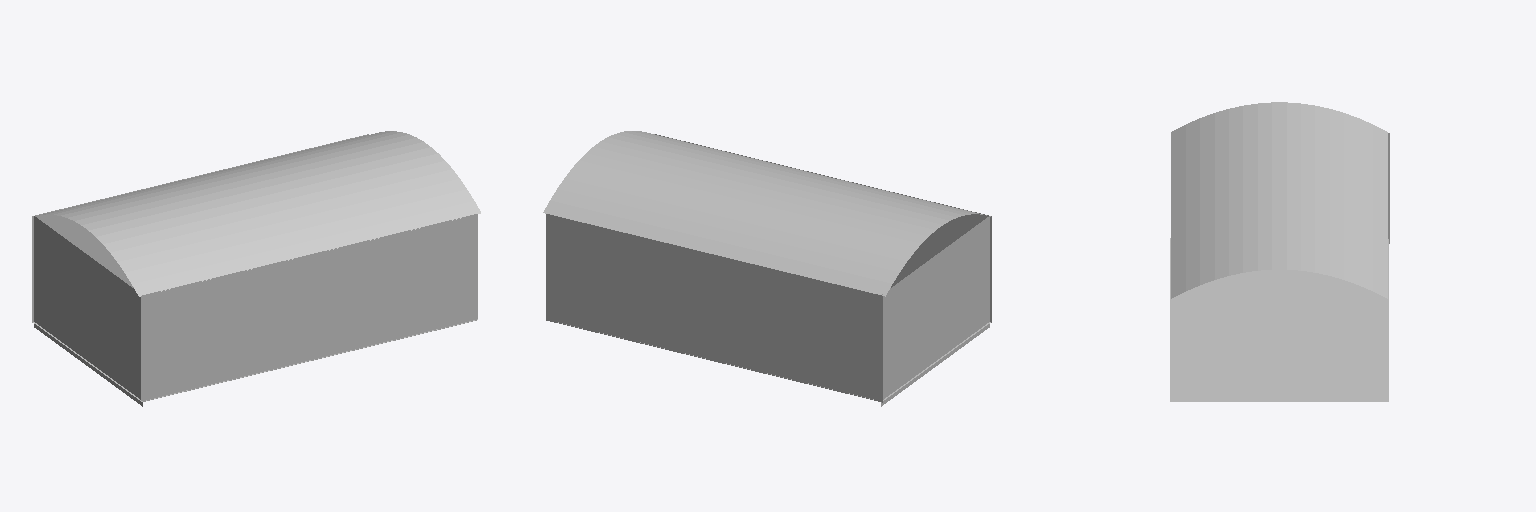
Rendered from Hangar_Simple.obj.
3 views of the same model, side by side, from view 1: azimuth 30°, elevation 25°; view 2: azimuth 150°, elevation 25°; view 3: azimuth 270°, elevation 25° (orthographic).
Parts seen in each view (by area): view 1: SurfCurve_SurfCurve.002, Plane.001_Plane.002, Plane.003_Plane.004, Plane.002_Plane.003; view 2: SurfCurve_SurfCurve.002, Plane.002_Plane.003, Plane.003_Plane.004, Plane.001_Plane.002; view 3: SurfCurve_SurfCurve.002, Plane.
Part boxes in pixels (x1,y1,x2,y2): SurfCurve_SurfCurve.002: (35,131,480,296); Plane.001_Plane.002: (141,214,477,401); Plane.003_Plane.004: (34,216,142,406); Plane.002_Plane.003: (32,134,368,322); SurfCurve_SurfCurve.002: (543,131,990,296); Plane.002_Plane.003: (546,214,882,402); Plane.003_Plane.004: (881,216,989,406); Plane.001_Plane.002: (655,134,991,322); SurfCurve_SurfCurve.002: (1171,102,1387,298); Plane: (1170,238,1388,401).
Size of the model in its own units: 4.94 by 1.93 by 2.73.